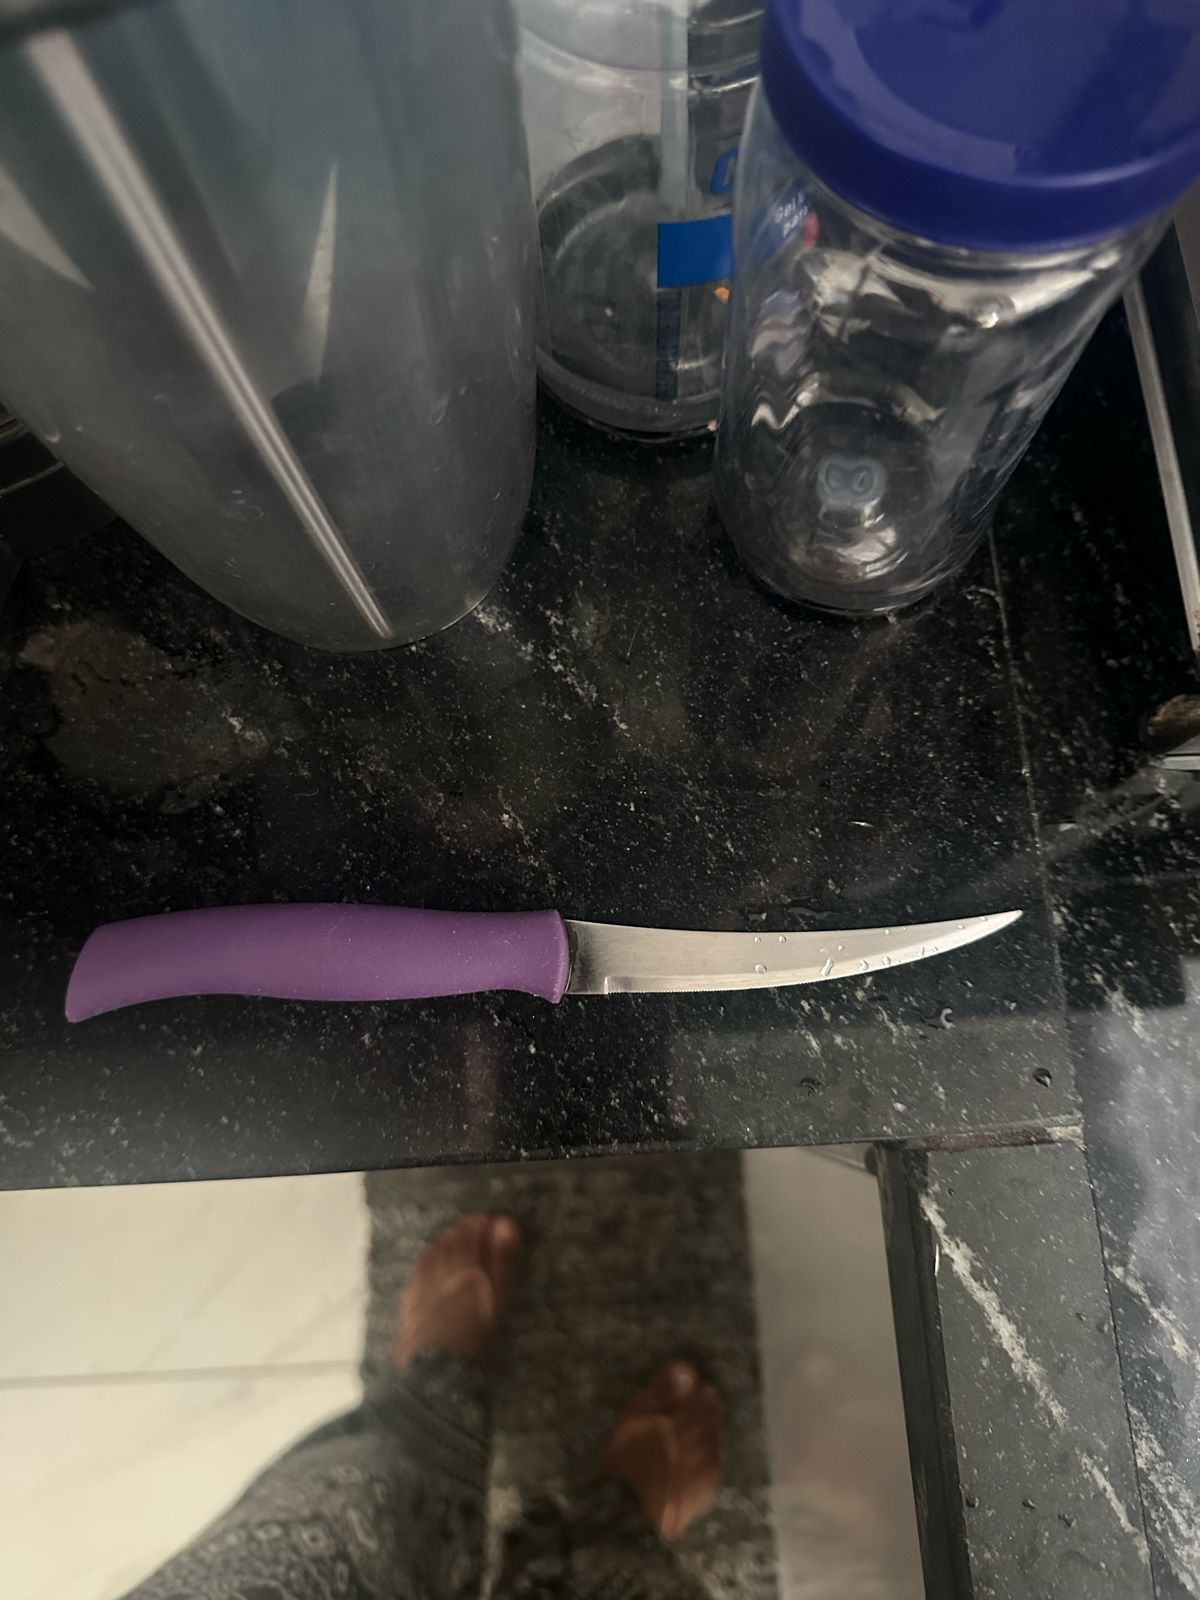faca: (25, 886, 1037, 1028)
